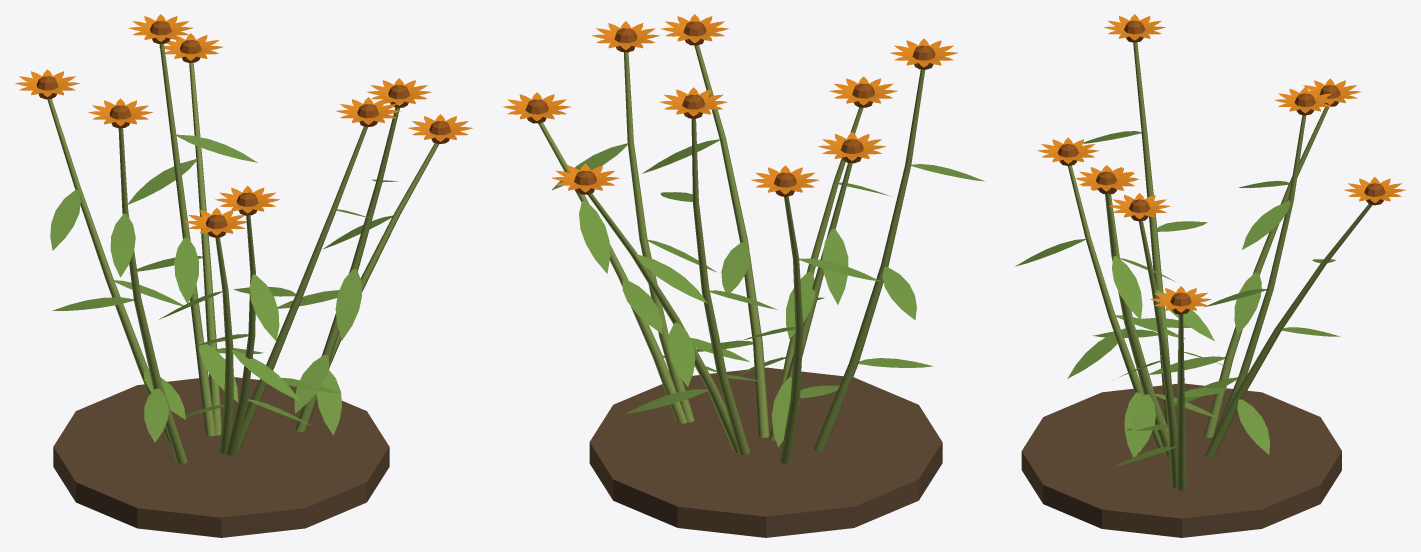
Rendered from ringelblume.glb.
3 renders of one model, left to right at view 1: azimuth 30°, elevation 25°; view 2: azimuth 150°, elevation 25°; view 3: azimuth 270°, elevation 25°, orthographic. The views are drawn at different scales.
Visible parts, largest first — view 1: ringelblume; view 2: ringelblume; view 3: ringelblume.
Part boxes in pixels (<box>): ringelblume: <box>15,14,472,537</box>; ringelblume: <box>502,14,984,537</box>; ringelblume: <box>1015,14,1405,537</box>.
Size of the model in its own units: 0.4156 by 0.4038 by 0.3673.
